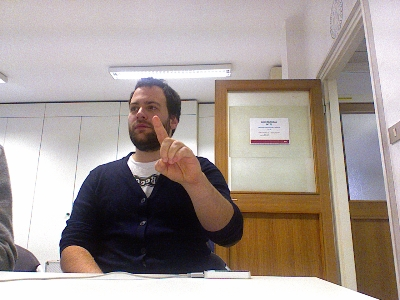食指: (149, 113, 203, 184)
